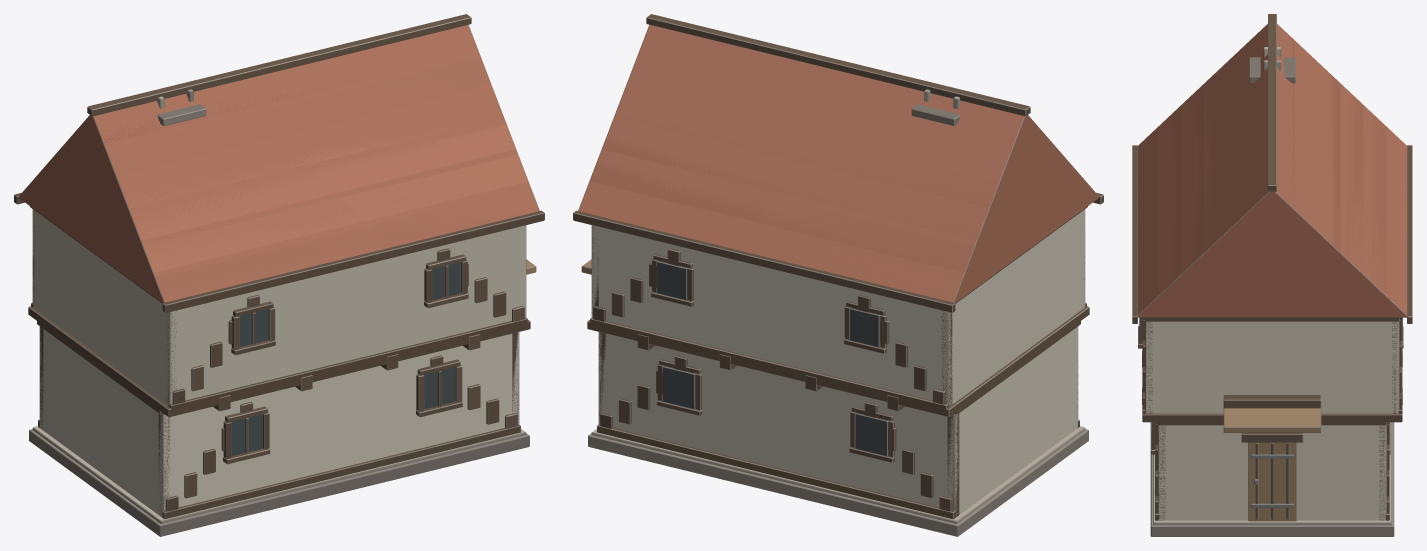
Rendered from SM_Kit_casa_g.fbx.
3 views of the same model, side by side, from view 1: azimuth 30°, elevation 25°; view 2: azimuth 150°, elevation 25°; view 3: azimuth 270°, elevation 25° (orthographic). The views are drawn at different scales.
Visible parts, largest first — view 1: SM_Kit_casa_g; view 2: SM_Kit_casa_g; view 3: SM_Kit_casa_g.
Boxes of the visible parts, x1,y1,x2,y2 form: SM_Kit_casa_g: (14, 14, 544, 536); SM_Kit_casa_g: (573, 14, 1103, 536); SM_Kit_casa_g: (1132, 14, 1412, 536).
Size of what is drawn, in the model's own units: 1061 by 922 by 662.
